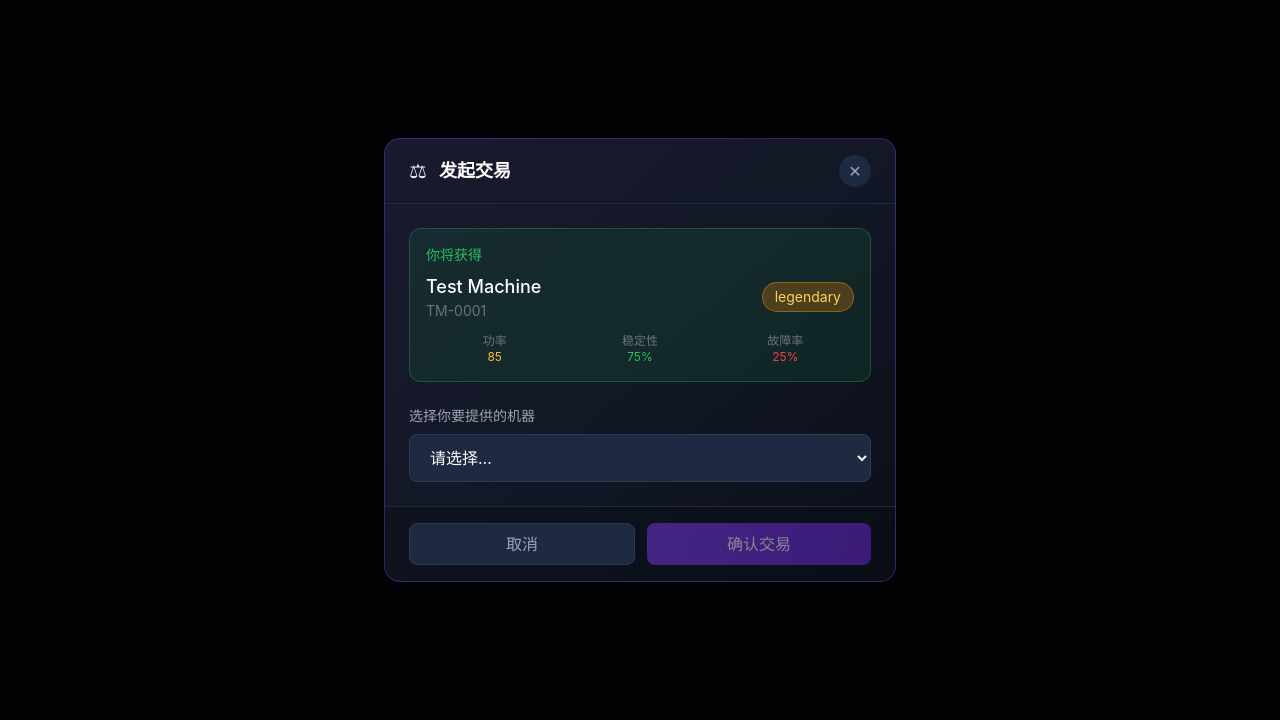
Test: TradeProposalModal › Selected Machine Preview (AC-EXCHANGE-UI-004) › should show preview with name when machine is selected
Select a machine
Select "Alpha Machine (rare) - MC-0001" in the dropdown. click: x=640, y=458
box: [409, 434, 871, 482]
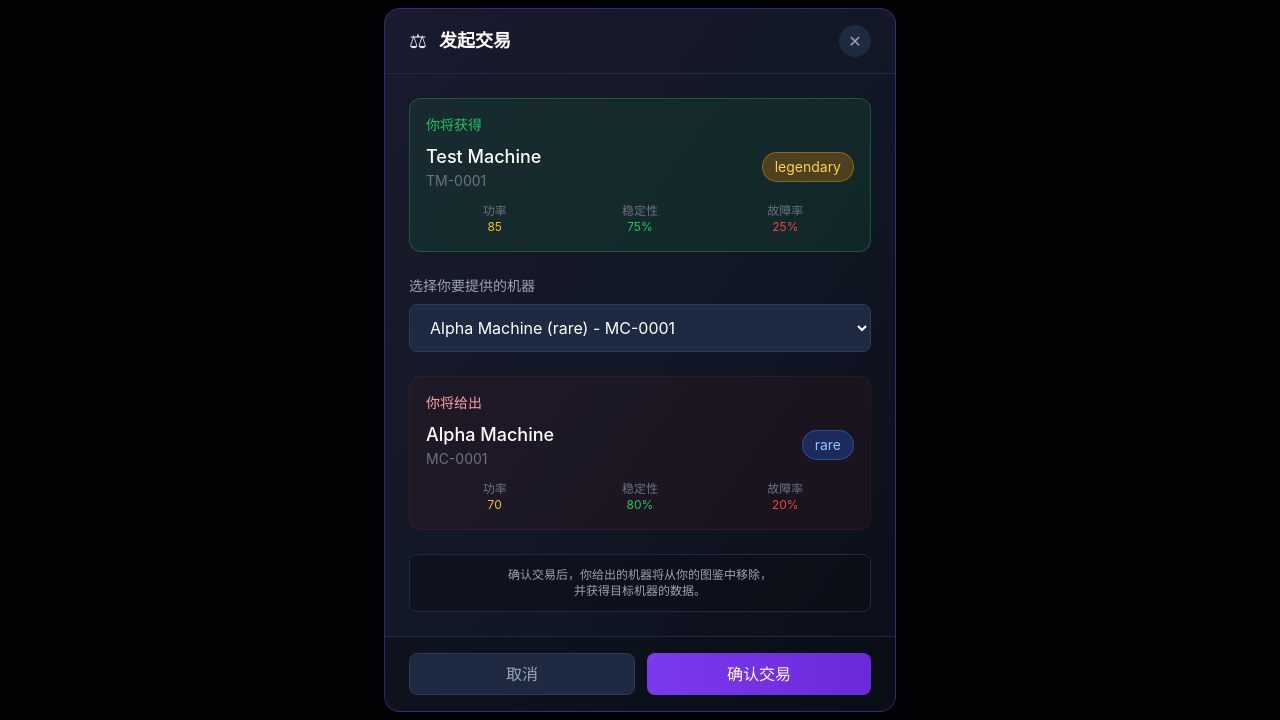
Expected: the text "Alpha Machine" is shown, [426, 421, 554, 449]
